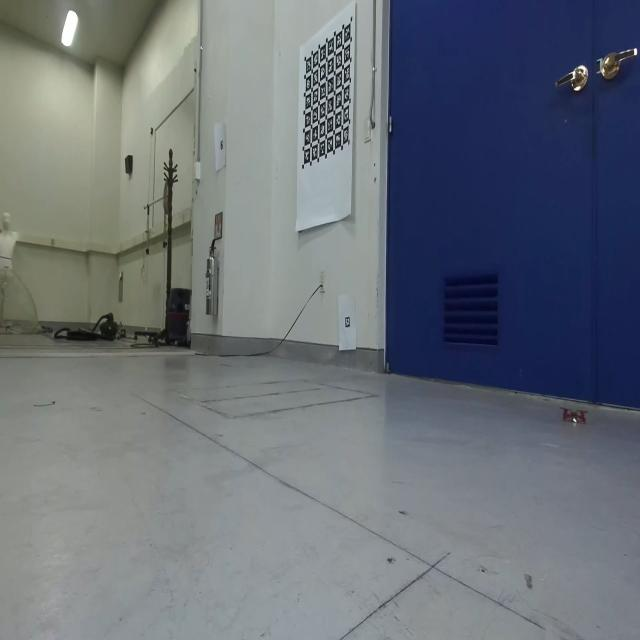crazyflie: (558, 402, 590, 429)
